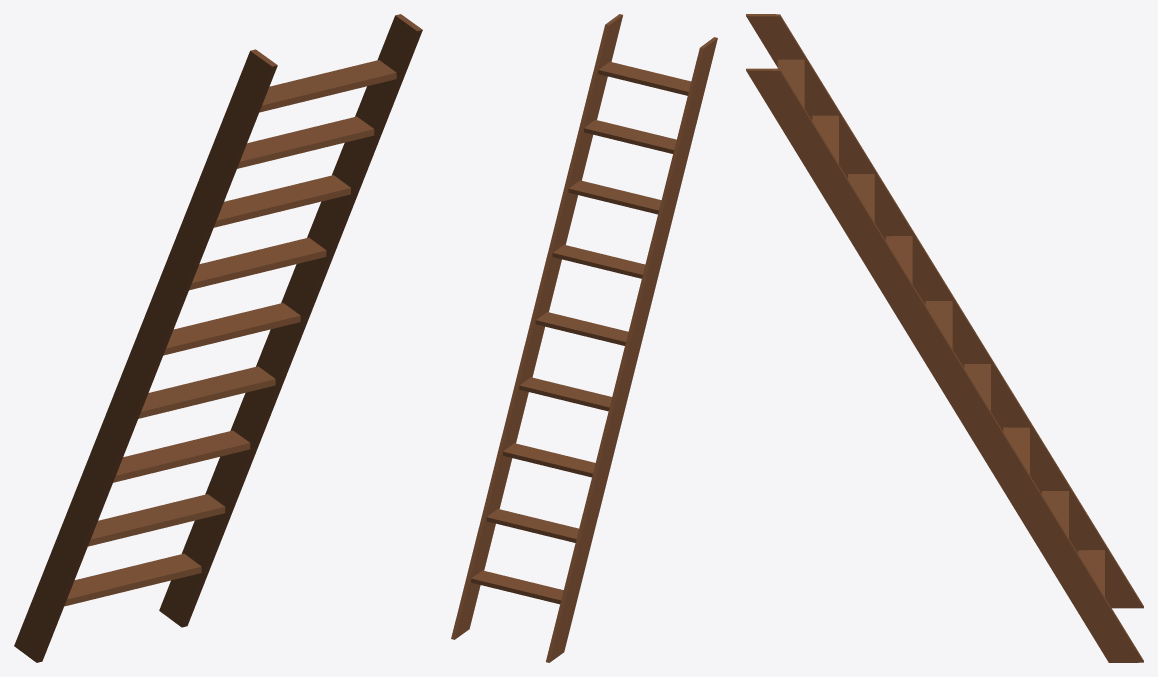
The model's file is Leiter.fbx.
3 renders of one model, left to right at view 1: azimuth 30°, elevation 25°; view 2: azimuth 150°, elevation 25°; view 3: azimuth 270°, elevation 25°, orthographic. The views are drawn at different scales.
Visible parts, largest first — view 1: Leiter; view 2: Leiter; view 3: Leiter.
Boxes of the visible parts, x1,y1,x2,y2 form: Leiter: (14,14,422,662); Leiter: (451,14,717,662); Leiter: (746,14,1143,662).
Size of the model in its own units: 53.42 by 260 by 158.
